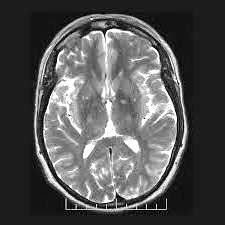Normal_Brain: (20, 1, 225, 225)
